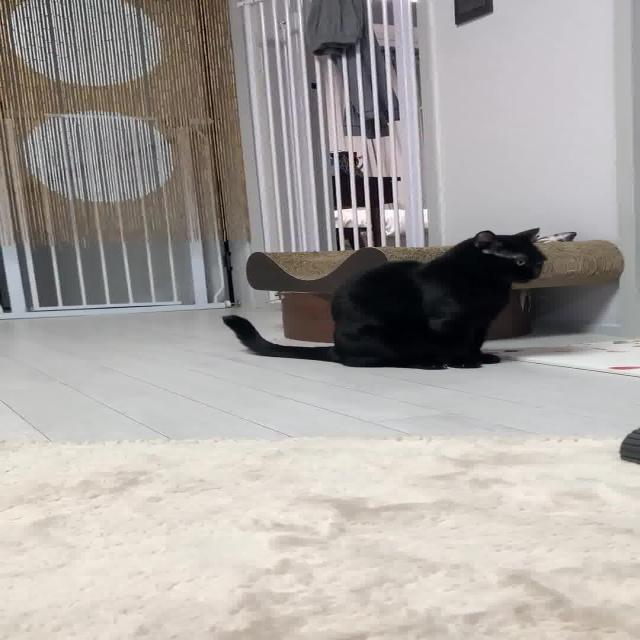cat: (189, 226, 564, 372)
